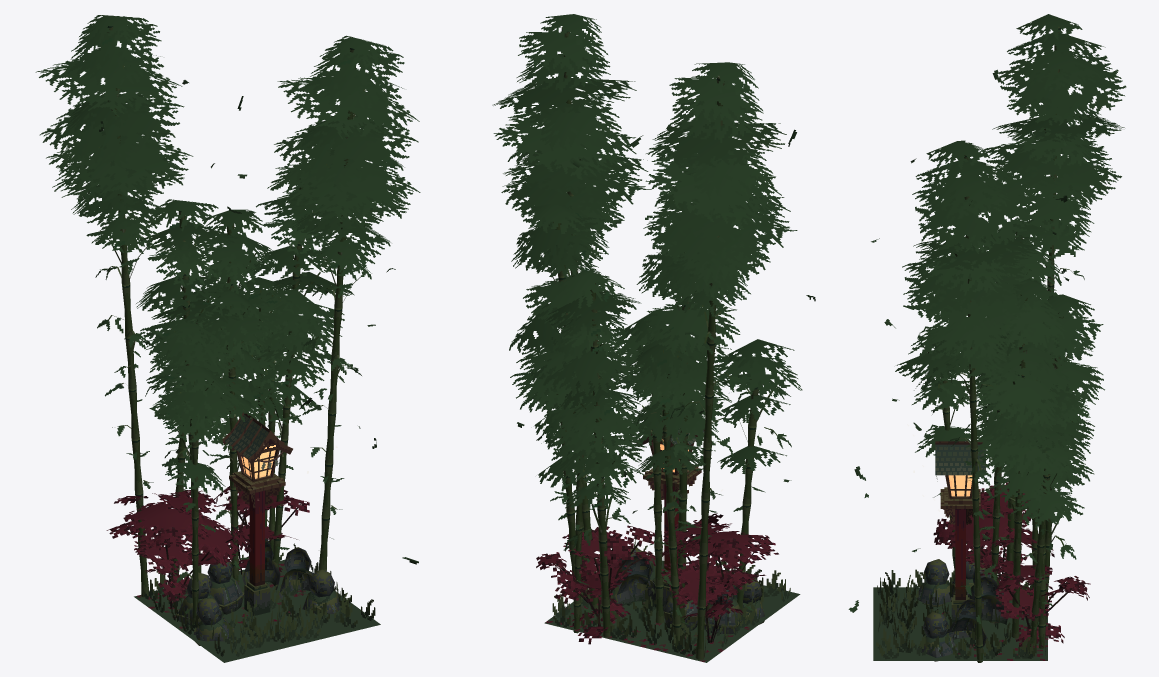
3 renders of one model, left to right at view 1: azimuth 30°, elevation 25°; view 2: azimuth 150°, elevation 25°; view 3: azimuth 270°, elevation 25°, orthographic. The views are drawn at different scales.
Visible parts, largest first — view 1: bamboo_1_0, bamboo_1.001_1, bamboo_2.002_4, bamboo_2.001_3, Planta_1_17, bamboo_3.002_7, bamboo_2_2, lamp_10, ground_29, Grama_2.015_31, bamboo_3.001_6, bamboo_3.003_8 (+9 smaller); view 2: bamboo_1_0, bamboo_1.001_1, bamboo_2_2, bamboo_2.001_3, bamboo_2.002_4, bamboo_3.002_7, Planta_1_17, bamboo_3_5, Planta_2_18, Grama_2.015_31, ground_29, bamboo_3.004_9 (+8 smaller); view 3: bamboo_1.001_1, bamboo_1_0, bamboo_2.002_4, bamboo_2_2, ground_29, Grama_2.015_31, bamboo_3.004_9, bamboo_3.002_7, lamp_10, Planta_2_18, Planta_1_17, bamboo_2.001_3 (+7 smaller).
Part boxes in pixels (<box>): bamboo_1_0: <box>35,15,193,597</box>; bamboo_1.001_1: <box>274,35,420,570</box>; bamboo_2.002_4: <box>247,169,354,568</box>; bamboo_2.001_3: <box>136,199,245,572</box>; Planta_1_17: <box>106,490,251,608</box>; bamboo_3.002_7: <box>153,365,244,627</box>; bamboo_2_2: <box>193,209,285,574</box>; lamp_10: <box>222,412,292,615</box>; ground_29: <box>134,559,380,662</box>; Grama_2.015_31: <box>142,543,375,656</box>; bamboo_3.001_6: <box>191,291,280,584</box>; bamboo_3.003_8: <box>221,277,308,527</box>; bamboo_1_0: <box>643,62,797,659</box>; bamboo_1.001_1: <box>492,14,651,598</box>; bamboo_2_2: <box>544,268,648,637</box>; bamboo_2.001_3: <box>629,233,740,628</box>; bamboo_2.002_4: <box>509,203,618,609</box>; bamboo_3.002_7: <box>714,339,802,611</box>; Planta_1_17: <box>660,513,778,642</box>; bamboo_3_5: <box>616,344,716,650</box>; Planta_2_18: <box>536,525,655,644</box>; Grama_2.015_31: <box>552,539,790,656</box>; ground_29: <box>544,558,800,662</box>; bamboo_3.004_9: <box>510,353,607,624</box>; bamboo_1.001_1: <box>902,140,1041,662</box>; bamboo_1_0: <box>979,14,1126,533</box>; bamboo_2.002_4: <box>976,278,1069,638</box>; bamboo_2_2: <box>1005,294,1104,625</box>; ground_29: <box>873,587,1047,660</box>; Grama_2.015_31: <box>876,569,1045,659</box>; bamboo_3.004_9: <box>1007,397,1093,649</box>; bamboo_3.002_7: <box>895,326,981,578</box>; lamp_10: <box>935,441,985,623</box>; Planta_2_18: <box>980,538,1090,647</box>; Planta_1_17: <box>933,482,1053,584</box>; bamboo_2.001_3: <box>967,220,1061,601</box>.
Size of what is drawn, in the model's own units: 2.69 by 4.49 by 2.14.
7 materials, 7 textured.
